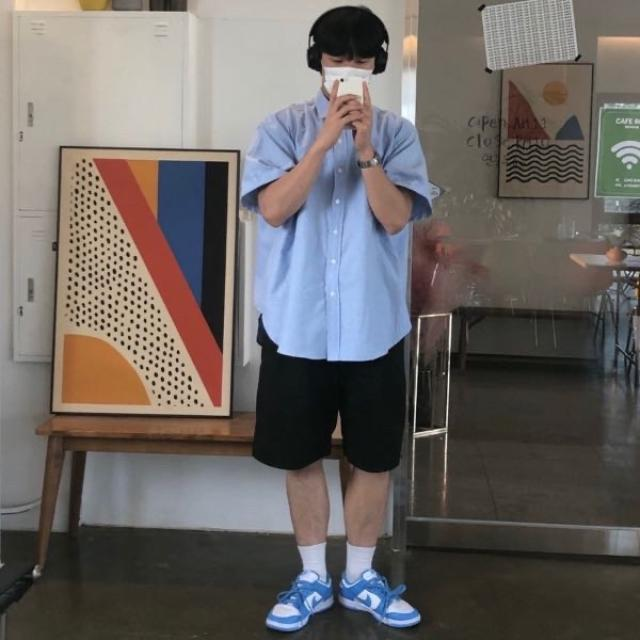shirt: (240, 83, 434, 359)
shortpants: (252, 323, 406, 475)
